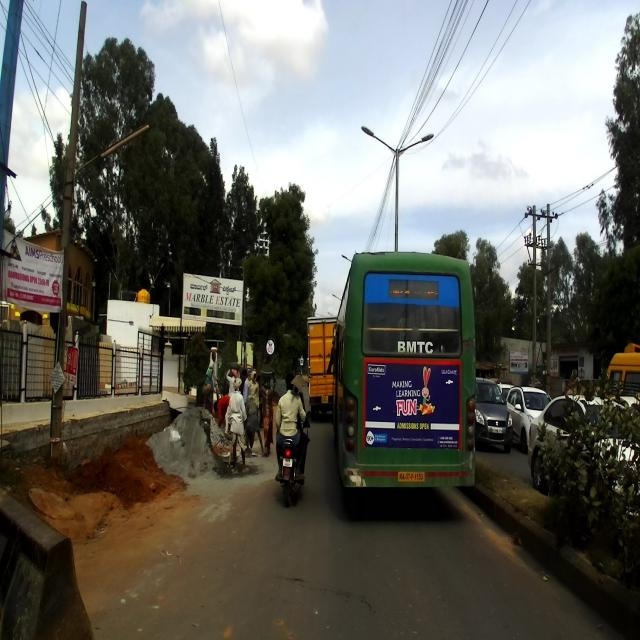bus: (326, 249, 476, 491)
motorcycle: (276, 411, 312, 507)
